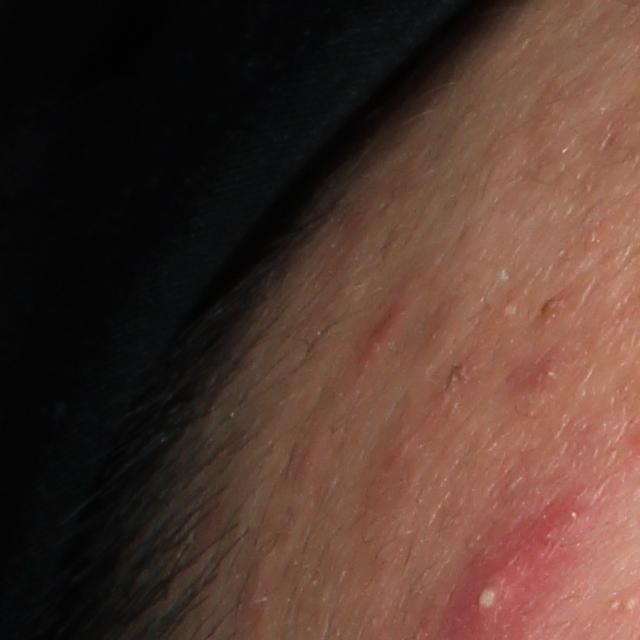comedo: (499, 301, 522, 319)
papule: (357, 298, 409, 373), (240, 553, 283, 629)
